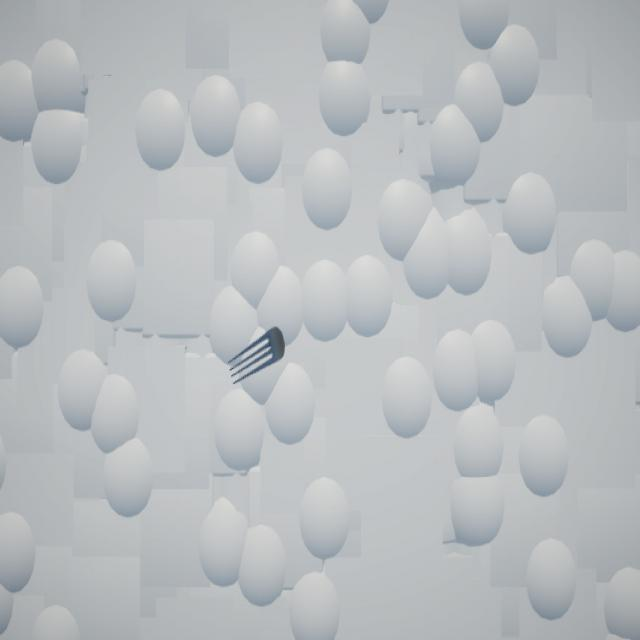top_folk: (229, 327, 286, 385)
